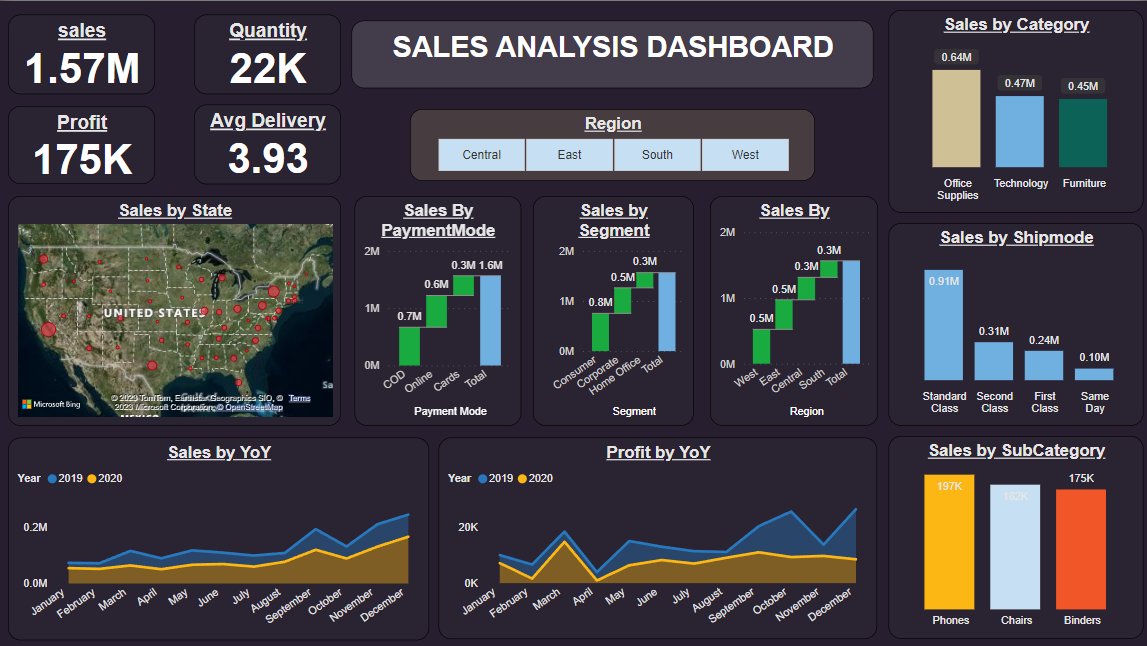

What the dashboard file says about the page in this screenshot:
{"tool":"powerbi","page":{"name":"Page 1","canvas":[1280,720],"ordinal":0},"visuals":[{"type":"clusteredBarChart","title":"Sales by Category","fields":{"Category":["SuperStore_Sales_Dataset.Category"],"Y":["Sum(SuperStore_Sales_Dataset.Sales)"]},"box":[988.3,10,283.3,225],"z":0},{"type":"clusteredBarChart","title":"Sales by SubCategory","fields":{"Category":["SuperStore_Sales_Dataset.Sub-Category"],"Y":["Sum(SuperStore_Sales_Dataset.Sales)"]},"box":[988.3,483.3,283.3,225],"z":1000},{"type":"clusteredBarChart","title":"Sales by Shipmode","fields":{"Category":["SuperStore_Sales_Dataset.Ship Mode"],"Y":["Sum(SuperStore_Sales_Dataset.Sales)"]},"box":[988.3,246.7,283.3,225],"z":2000},{"type":"stackedAreaChart","title":"Sales by YoY","fields":{"Category":["SuperStore_Sales_Dataset.Order Date.Variation.Date Hierarchy.Month","SuperStore_Sales_Dataset.Order Date.Variation.Date Hierarchy.Day"],"Y":["Sum(SuperStore_Sales_Dataset.Sales)"],"Series":["SuperStore_Sales_Dataset.Order Date.Variation.Date Hierarchy.Year"]},"box":[10.6,484.5,467.9,225.6],"z":3000},{"type":"stackedAreaChart","title":"Profit by YoY","fields":{"Category":["SuperStore_Sales_Dataset.Order Date.Variation.Date Hierarchy.Month","SuperStore_Sales_Dataset.Order Date.Variation.Date Hierarchy.Day"],"Series":["SuperStore_Sales_Dataset.Order Date.Variation.Date Hierarchy.Year"],"Y":["Sum(SuperStore_Sales_Dataset.Profit)"]},"box":[489.1,484.5,487.6,224.1],"z":4000},{"type":"map","title":"Sales by State","fields":{"Category":["SuperStore_Sales_Dataset.State"],"Size":["Sum(SuperStore_Sales_Dataset.Sales)"]},"box":[10,216.7,370,255],"z":5000},{"type":"donutChart","title":"Sales by Segment","fields":{"Category":["SuperStore_Sales_Dataset.Segment"],"Y":["Sum(SuperStore_Sales_Dataset.Sales)"]},"box":[588.3,216.7,186.7,255],"z":6000},{"type":"donutChart","title":"Sales By PaymentMode","fields":{"Category":["SuperStore_Sales_Dataset.Payment Mode"],"Y":["Sum(SuperStore_Sales_Dataset.Sales)"]},"box":[385,216.7,185,255],"z":7000},{"type":"textbox","box":[385,10,591.7,125],"z":8000},{"type":"slicer","fields":{"Values":["SuperStore_Sales_Dataset.Region"]},"box":[433.3,150,495,53.3],"z":9000},{"type":"card","title":"sales","fields":{"Values":["Sum(SuperStore_Sales_Dataset.Sales)"]},"box":[10,15,163.3,88.3],"z":10000},{"type":"card","title":"Quantity","fields":{"Values":["Sum(SuperStore_Sales_Dataset.Quantity)"]},"box":[195,16.7,163.3,88.3],"z":11000},{"type":"card","title":"Profit","fields":{"Values":["Sum(SuperStore_Sales_Dataset.Profit)"]},"box":[10,116.7,163.3,86.7],"z":12000},{"type":"card","title":"Avg Delivery","fields":{"Values":["Avg(SuperStore_Sales_Dataset.AvgDelivery)"]},"box":[195,116.7,163.3,88.3],"z":13000},{"type":"donutChart","title":"Sales By ","fields":{"Category":["SuperStore_Sales_Dataset.Region"],"Y":["Sum(SuperStore_Sales_Dataset.Sales)"]},"box":[790,216.7,186.7,255],"z":14000}]}

Visuals, with their boxes in screenshot pixels (x1, y1, x2, y2), scaled from the page's 1280x720 canvas onto the 1147x646 screenshot:
"Sales by Category" clusteredBarChart: bbox=(886, 9, 1139, 211)
"Sales by SubCategory" clusteredBarChart: bbox=(886, 434, 1139, 636)
"Sales by Shipmode" clusteredBarChart: bbox=(886, 221, 1139, 423)
"Sales by YoY" stackedAreaChart: bbox=(9, 435, 429, 637)
"Profit by YoY" stackedAreaChart: bbox=(438, 435, 875, 636)
"Sales by State" map: bbox=(9, 194, 341, 423)
"Sales by Segment" donutChart: bbox=(527, 194, 694, 423)
"Sales By PaymentMode" donutChart: bbox=(345, 194, 511, 423)
textbox: bbox=(345, 9, 875, 121)
slicer - SuperStore_Sales_Dataset.Region: bbox=(388, 135, 832, 182)
"sales" card: bbox=(9, 13, 155, 93)
"Quantity" card: bbox=(175, 15, 321, 94)
"Profit" card: bbox=(9, 105, 155, 182)
"Avg Delivery" card: bbox=(175, 105, 321, 184)
"Sales By " donutChart: bbox=(708, 194, 875, 423)
